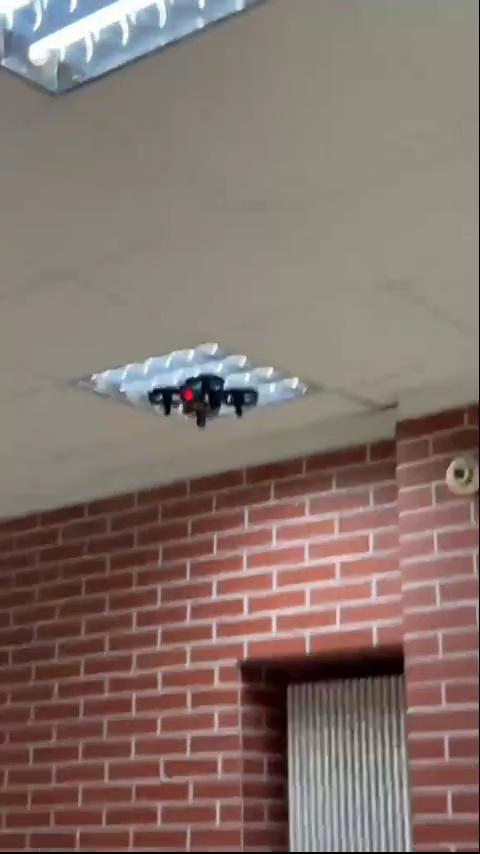drone: (147, 373, 257, 429)
